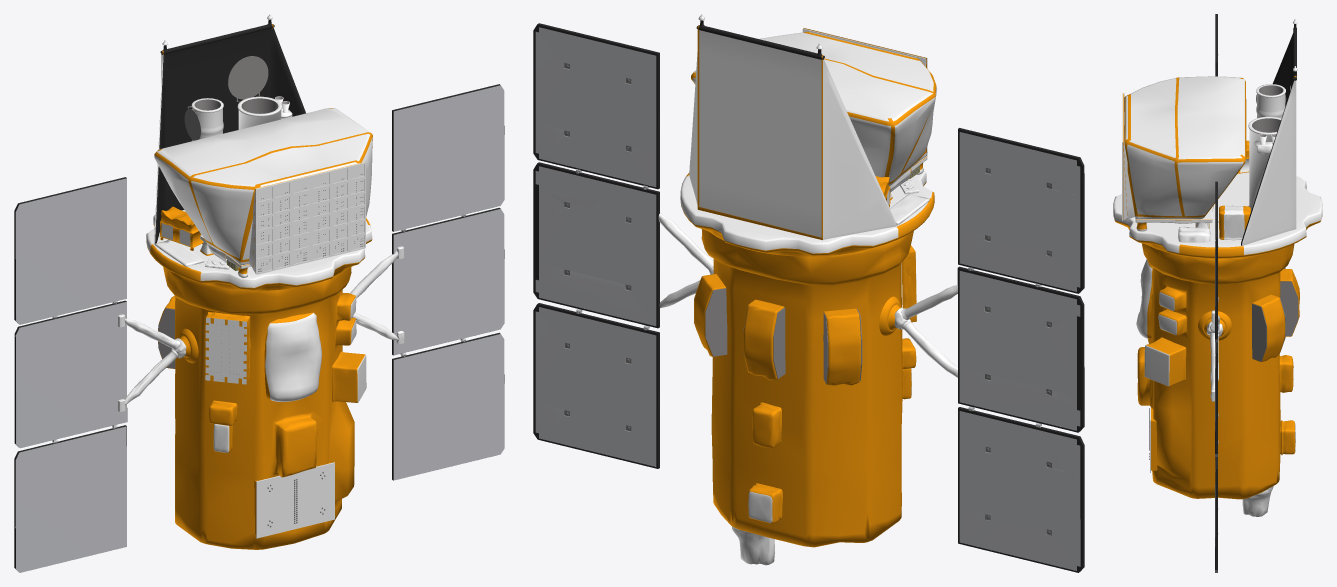
The model's file is sc_swift.glb.
The picture shows the model from 3 angles, left to right: view 1: azimuth 30°, elevation 25°; view 2: azimuth 150°, elevation 25°; view 3: azimuth 270°, elevation 25°; orthographic projection. The views are drawn at different scales.
Visible parts, largest first — view 1: Swift_L_SP_2_polySurface9820, Swift_R_SP_2_pCylinder12, Swift_BUS_2_pCube1, Swift_BUS_2_pCube3, Swift_BUS_2_pCube4, Swift_BUS_2_pCube29, Swift_BUS_2_pCube2, Swift_BUS_2_pCylinder4, Swift_BUS_2_pSphere1, Swift_BUS_2_pCube8, Swift_BUS_2_pCube37, Swift_BUS_2_pCube36 (+6 smaller); view 2: Swift_L_SP_2_polySurface9820, Swift_R_SP_2_pCylinder12, Swift_BUS_2_pCube1, Swift_BUS_2_pCube29, Swift_BUS_2_pCube3, Swift_BUS_2_pCylinder4, Swift_BUS_2_pCube17, Swift_BUS_2_pCube8, Swift_BUS_2_polySurface9819, Swift_BUS_2_pCube18, Swift_BUS_2_pCube19, Swift_BUS_2_pCylinder80 (+1 smaller); view 3: Swift_BUS_2_pCube1, Swift_BUS_2_pCube3, Swift_BUS_2_pCylinder4, Swift_BUS_2_pCube29, Swift_BUS_2_pCube8, Swift_R_SP_2_pCylinder12, Swift_BUS_2_pCube36, Swift_BUS_2_pCylinder7, Swift_BUS_2_pCube17, Swift_BUS_2_polySurface9819, Swift_BUS_2_pCube21, Swift_BUS_2_pCylinder6 (+8 smaller).
Part boxes in pixels (x1,y1,x2,y2): Swift_L_SP_2_polySurface9820: [14, 177, 198, 572]; Swift_R_SP_2_pCylinder12: [350, 84, 504, 480]; Swift_BUS_2_pCube1: [175, 289, 356, 549]; Swift_BUS_2_pCube3: [154, 108, 372, 265]; Swift_BUS_2_pCube4: [249, 162, 365, 274]; Swift_BUS_2_pCube29: [154, 14, 305, 244]; Swift_BUS_2_pCube2: [254, 462, 334, 538]; Swift_BUS_2_pCylinder4: [146, 210, 372, 290]; Swift_BUS_2_pSphere1: [264, 312, 321, 401]; Swift_BUS_2_pCube8: [163, 266, 351, 314]; Swift_BUS_2_pCube37: [205, 312, 250, 384]; Swift_BUS_2_pCube36: [332, 351, 366, 402]; Swift_L_SP_2_polySurface9820: [879, 128, 1084, 572]; Swift_R_SP_2_pCylinder12: [533, 23, 713, 468]; Swift_BUS_2_pCube1: [711, 259, 902, 547]; Swift_BUS_2_pCube29: [689, 14, 896, 240]; Swift_BUS_2_pCube3: [691, 31, 936, 186]; Swift_BUS_2_pCylinder4: [680, 170, 934, 256]; Swift_BUS_2_pCube17: [694, 274, 860, 385]; Swift_BUS_2_pCube8: [701, 229, 913, 285]; Swift_BUS_2_polySurface9819: [694, 288, 862, 384]; Swift_BUS_2_pCube18: [748, 483, 782, 523]; Swift_BUS_2_pCube19: [752, 402, 781, 448]; Swift_BUS_2_pCylinder80: [732, 526, 774, 565]; Swift_BUS_2_pCube1: [1137, 267, 1280, 499]; Swift_BUS_2_pCube3: [1124, 76, 1246, 219]; Swift_BUS_2_pCylinder4: [1113, 172, 1322, 258]; Swift_BUS_2_pCube29: [1241, 18, 1297, 245]; Swift_BUS_2_pCube8: [1141, 243, 1294, 284]; Swift_R_SP_2_pCylinder12: [1198, 181, 1231, 572]; Swift_BUS_2_pCube36: [1144, 337, 1186, 386]; Swift_BUS_2_pCylinder7: [1248, 116, 1281, 211]; Swift_BUS_2_pCube17: [1252, 269, 1299, 361]; Swift_BUS_2_polySurface9819: [1252, 267, 1298, 361]; Swift_BUS_2_pCube21: [1219, 205, 1250, 240]; Swift_BUS_2_pCylinder6: [1256, 84, 1286, 118].
Bounding box in the file's own units: 1.55 × 1.5 × 0.6195.
12 materials, 4 textured.
